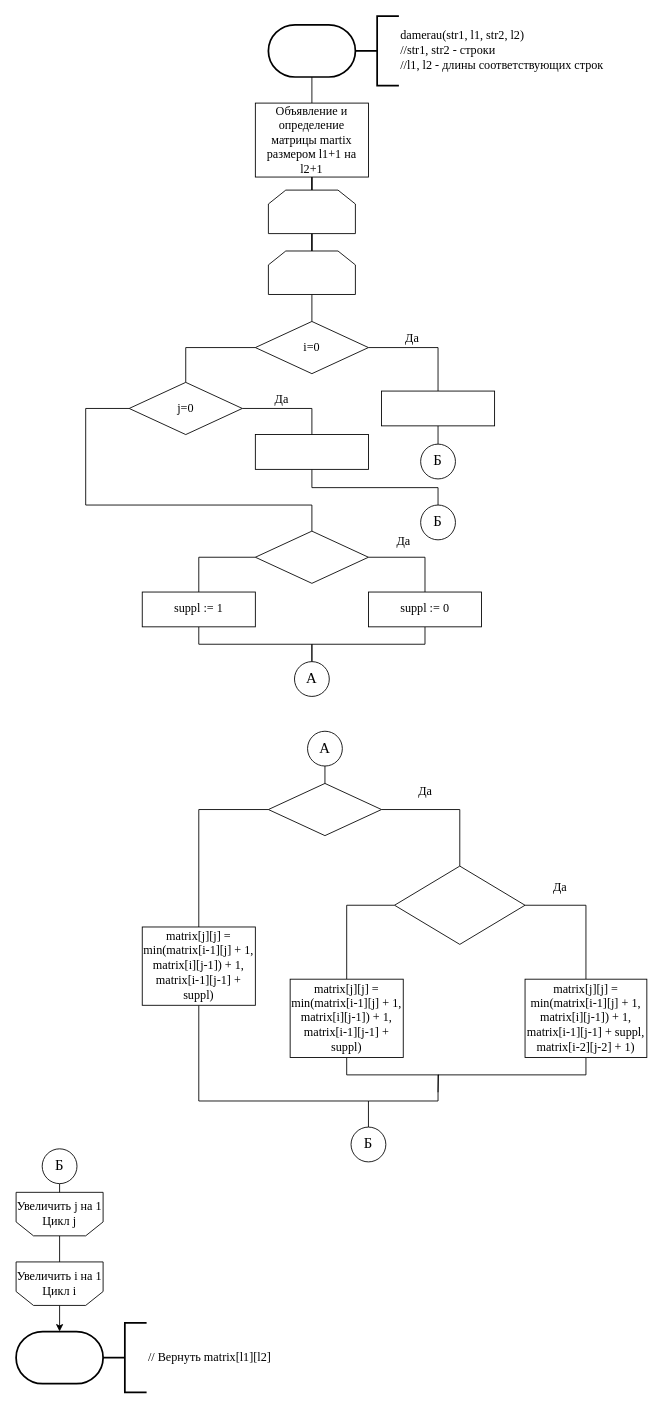
The diagram is 662 pixels wide and 1408 high, and some of its shapes have lost their labels. The box of each missing label's shape, as (x1, y1, x2, y2) in pixels:
i > 1 && j >1: (268, 783, 381, 836)
matrix[0][j] := j: (381, 390, 495, 426)
matrix[i][0] := i: (254, 434, 368, 469)
s1[i-1] = s2[j-1]: (254, 530, 368, 583)
s1[i-1] = s2[j-2] && s2[j-1] = s1[i-2]: (394, 865, 525, 944)
Конец: (15, 1330, 104, 1384)
Начало: (267, 23, 356, 77)
Цикл i i < l1+1: (268, 189, 355, 234)
Цикл j j < l2+1: (268, 250, 355, 294)
